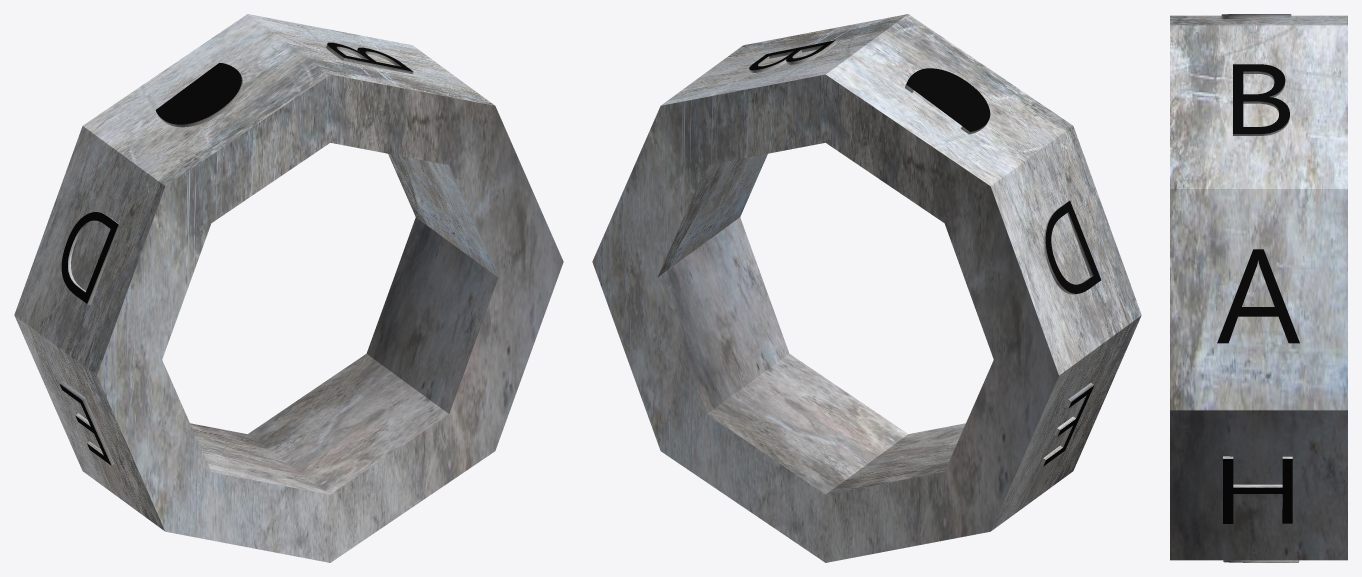
Rendered from 3206_alphabet ring_3Dv0.1.fbx.
The picture shows the model from 3 angles, left to right: view 1: azimuth 30°, elevation 25°; view 2: azimuth 150°, elevation 25°; view 3: azimuth 270°, elevation 25°; orthographic projection. The views are drawn at different scales.
Parts seen in each view (by area): view 1: Tube_4, Cap_2_5, Cap_2_4; view 2: Tube_4, Cap_2_5, Cap_2_4; view 3: Tube_4, Cap_2_7, Cap_2_6, Cap_2, B, C, H.
Part boxes in pixels (x1,y1,x2,y2): Tube_4: [14, 14, 563, 562]; Cap_2_5: [155, 63, 241, 124]; Cap_2_4: [61, 212, 118, 303]; Tube_4: [592, 14, 1141, 562]; Cap_2_5: [906, 68, 990, 131]; Cap_2_4: [1045, 201, 1101, 293]; Tube_4: [1170, 15, 1347, 560]; Cap_2_7: [1217, 249, 1299, 343]; Cap_2_6: [1233, 64, 1289, 133]; Cap_2: [1223, 459, 1292, 523]; B: [1233, 71, 1289, 135]; C: [1221, 14, 1291, 18]; H: [1223, 456, 1292, 508].
Size of the model in its own units: 121 by 121 by 37.19.
2 materials, 1 textured.
